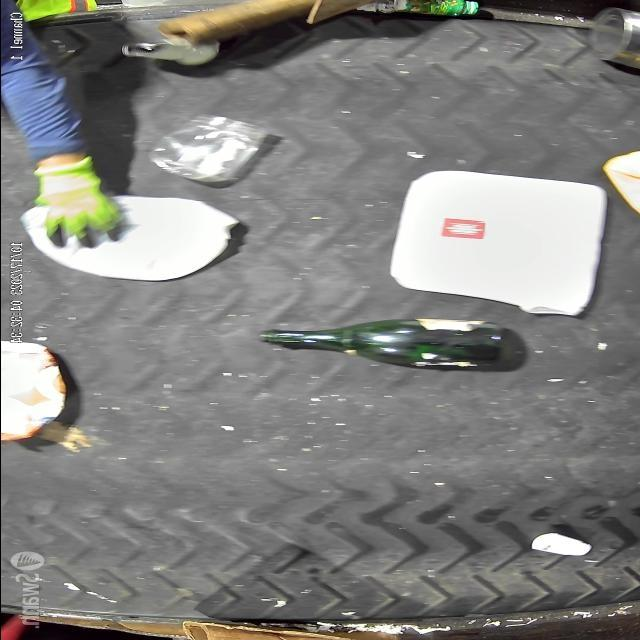milk_jug: (27, 196, 239, 282)
